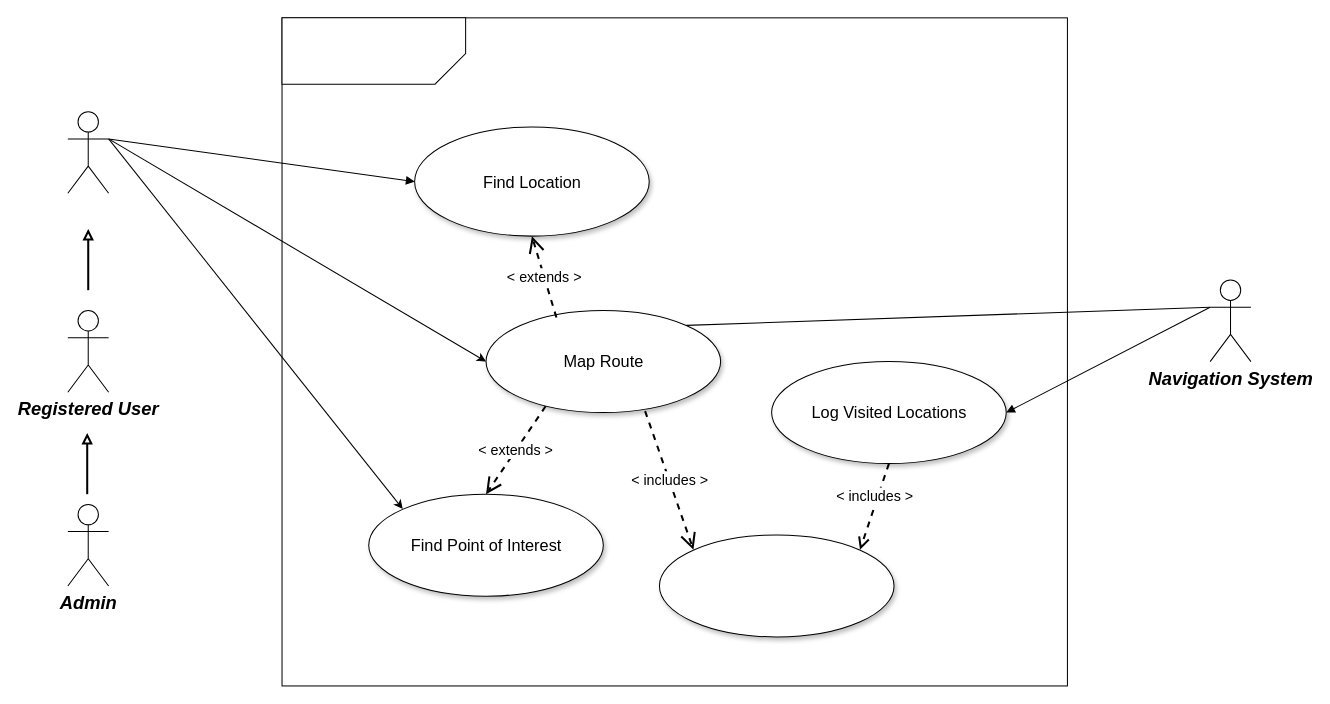
Some shapes in this 1330 by 704 pixel diagram are drawn without their labels. The centre of each missing label's shape, as x and y in pixels:
"Get Current Location" goes at pixel 777 587.
"GIS" goes at pixel 373 50.
"Guest" goes at pixel 88 152.
